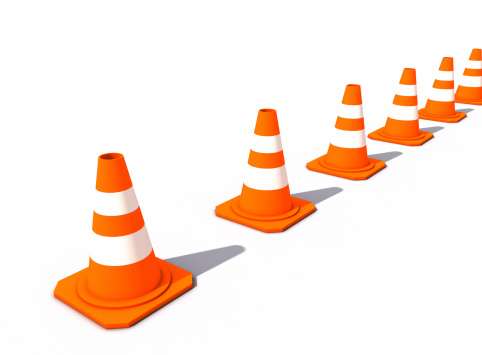trafficcone: (54, 152, 193, 330), (214, 108, 316, 233), (305, 84, 386, 180), (369, 68, 434, 146), (418, 56, 467, 123), (454, 47, 481, 105)
